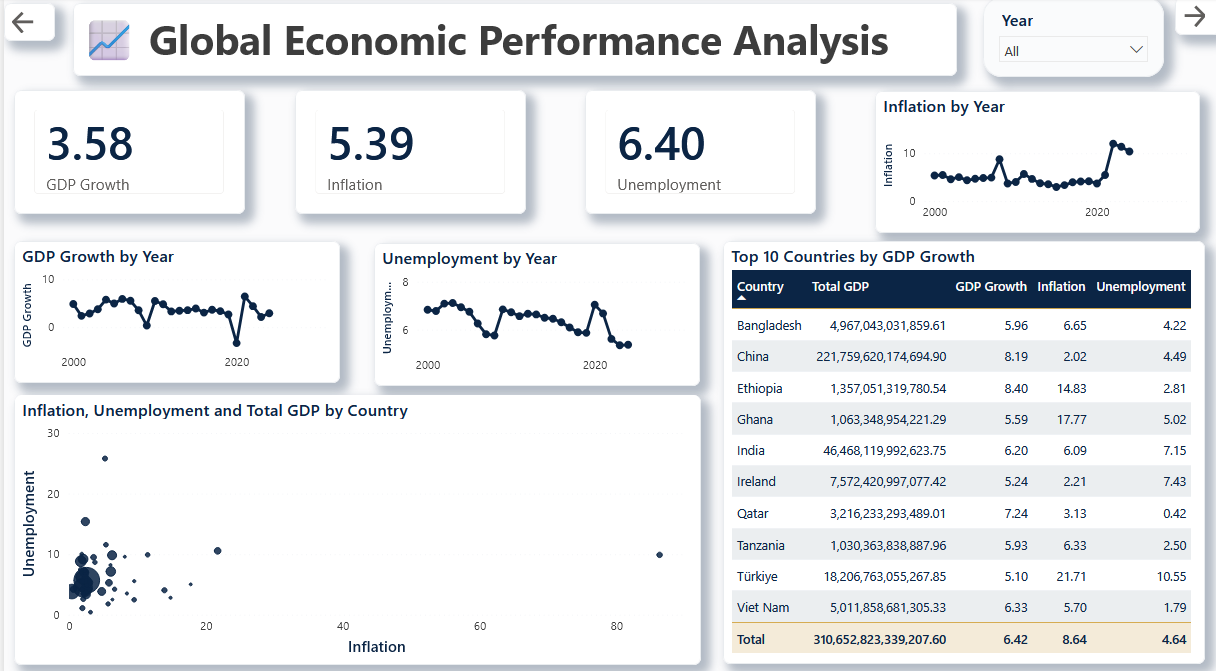

Layout of this report page (visuals, bound fields, positions):
{"tool":"powerbi","page":{"name":"📈 Economic Performance","canvas":[1280,720],"ordinal":1},"visuals":[{"type":"textbox","box":[72.7,6.9,930.4,76.8],"z":0},{"type":"slicer","fields":{"Values":["Dim_Year.Year"]},"box":[1030.5,0,190.7,83.7],"z":1000},{"type":"lineChart","fields":{"Category":["Dim_Year.Year"],"Y":["Measure Table.GDP Growth"]},"box":[10,257.1,342.9,150],"z":2000},{"type":"lineChart","fields":{"Category":["Dim_Year.Year"],"Y":["Measure Table.Inflation"]},"box":[917.1,98.6,341.4,150],"z":3000},{"type":"lineChart","fields":{"Category":["Dim_Year.Year"],"Y":["Measure Table.Unemployment"]},"box":[390,258.6,342.9,150],"z":4000},{"type":"scatterChart","fields":{"X":["Measure Table.Inflation"],"Y":["Measure Table.Unemployment"],"Category":["Dim_Country.Country"],"Size":["Measure Table.Total GDP"]},"box":[10,418.6,722.9,284.3],"z":5000},{"type":"tableEx","title":"Top 10 Countries by GDP Growth","fields":{"Values":["Dim_Country.Country","Measure Table.Total GDP","Measure Table.GDP Growth","Measure Table.Inflation","Measure Table.Unemployment"]},"box":[757.1,257.1,507.1,445.7],"z":6000},{"type":"cardVisual","fields":{"Data":["Measure Table.GDP Growth"]},"box":[10,97.1,242.9,131.4],"z":7000},{"type":"cardVisual","fields":{"Data":["Measure Table.Inflation"]},"box":[307.1,97.1,242.9,131.4],"z":8000},{"type":"cardVisual","fields":{"Data":["Measure Table.Unemployment"]},"box":[611.4,97.1,242.9,131.4],"z":9000},{"type":"actionButton","box":[1232.3,0,48,39.8],"z":10000},{"type":"actionButton","box":[0,6.9,53.5,39.8],"z":11000}]}

Visuals, with their boxes in screenshot pixels (x1, y1, x2, y2), scaled from the page's 1280x720 canvas onto the 1216x671 screenshot:
textbox: pyautogui.locateOnScreen(69, 6, 953, 78)
slicer - Dim_Year.Year: pyautogui.locateOnScreen(979, 0, 1160, 78)
lineChart - Dim_Year.Year x Measure Table.GDP Growth: pyautogui.locateOnScreen(10, 240, 335, 379)
lineChart - Dim_Year.Year x Measure Table.Inflation: pyautogui.locateOnScreen(871, 92, 1196, 232)
lineChart - Dim_Year.Year x Measure Table.Unemployment: pyautogui.locateOnScreen(370, 241, 696, 381)
scatterChart - Measure Table.Inflation x Measure Table.Unemployment: pyautogui.locateOnScreen(10, 390, 696, 655)
"Top 10 Countries by GDP Growth" tableEx: pyautogui.locateOnScreen(719, 240, 1201, 655)
cardVisual - Measure Table.GDP Growth: pyautogui.locateOnScreen(10, 90, 240, 213)
cardVisual - Measure Table.Inflation: pyautogui.locateOnScreen(292, 90, 522, 213)
cardVisual - Measure Table.Unemployment: pyautogui.locateOnScreen(581, 90, 812, 213)
actionButton: pyautogui.locateOnScreen(1171, 0, 1215, 37)
actionButton: pyautogui.locateOnScreen(0, 6, 51, 44)
